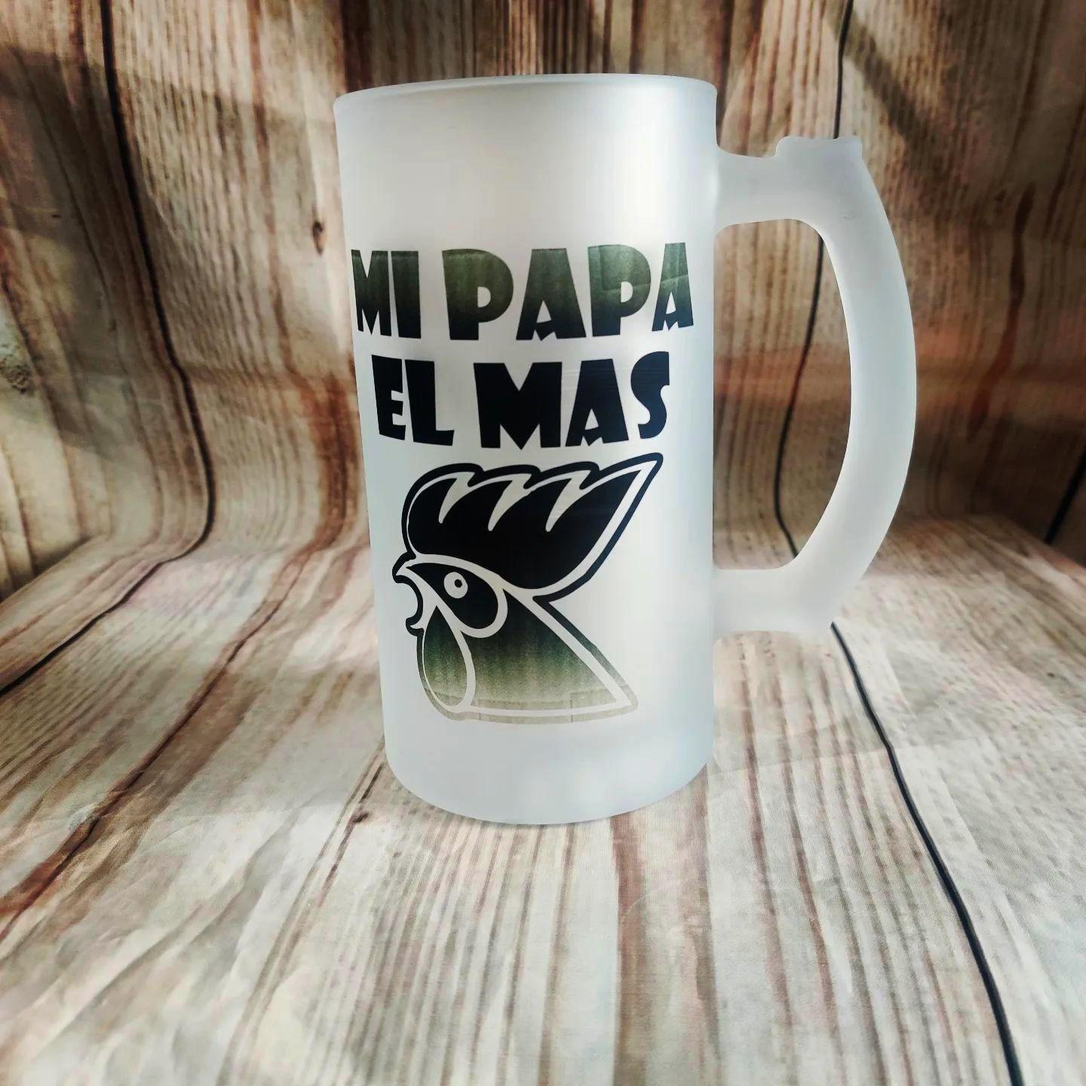glass-mug: (314, 64, 931, 846)
